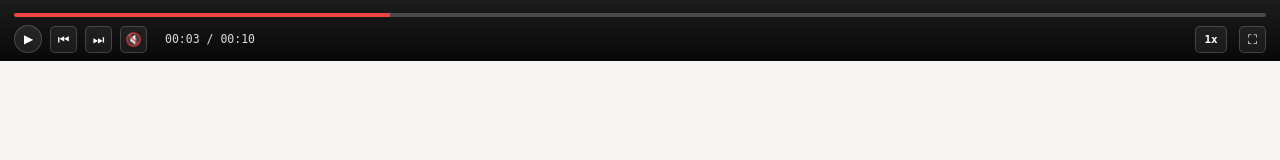
Test: toggles between elapsed and remaining time on click
Click the text "00:03 / 00:10". click: (210, 39)
box: [161,30,259,48]
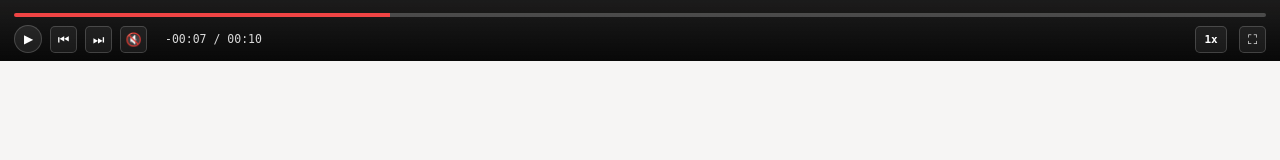
Result: the text "-00:07 / 00:10" is shown
Click the text "-00:07 / 00:10". click: (213, 39)
box: [161,30,266,48]
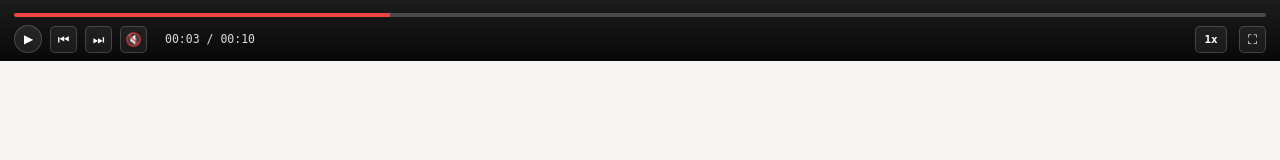
Result: the text "00:03 / 00:10" is shown at [161,30,259,48]
